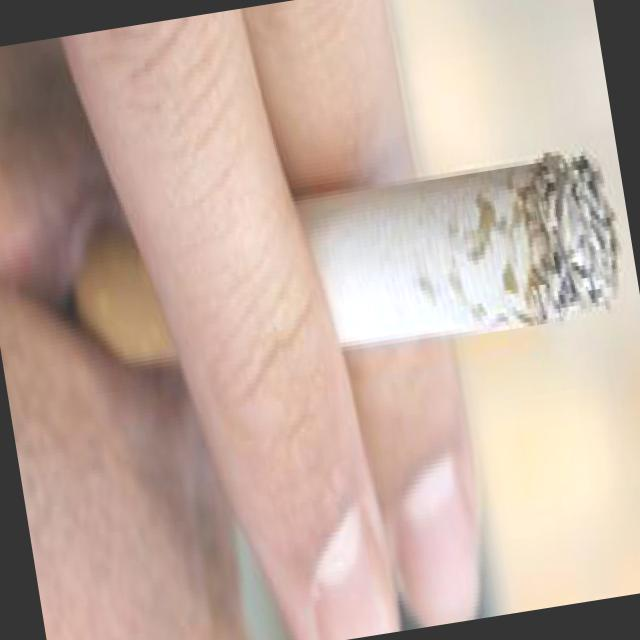smoke: (304, 145, 626, 368)
